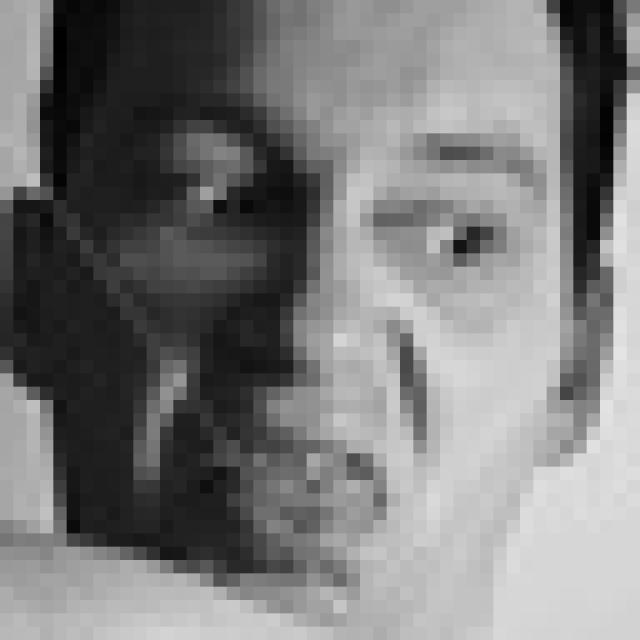disgust: (116, 96, 543, 572)
